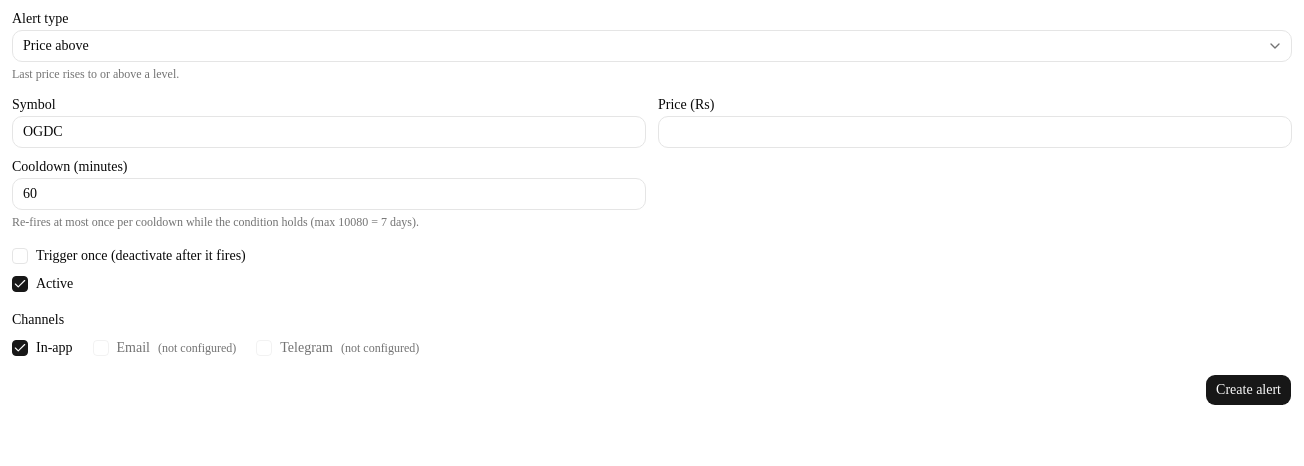
AlertForm › shows per-field errors and creates a typed alert; email/telegram are disabled
The image size is (1304, 466).
Later steps or results of the test are not shown.
Expected: the checkbox named "In-app" is checked, top-left (12, 340), bottom-right (28, 356)
Type "12.3.4" into the field labelled "Price (Rs)".
click(975, 132); type("12.3.4")  # box top-left (658, 116), bottom-right (1292, 148)
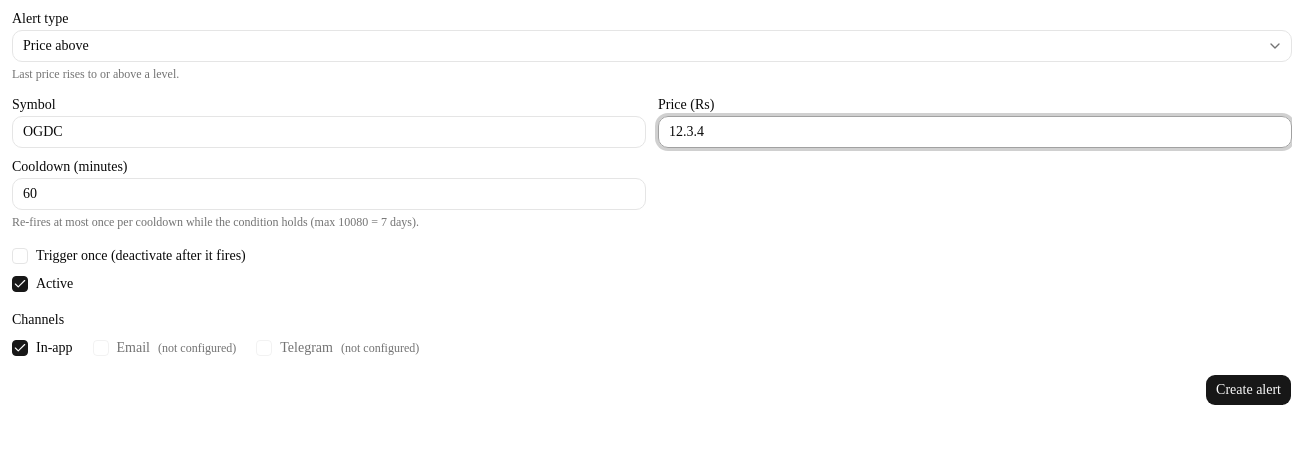
Replace the text in the field labelled "Cooldown (minutes)" with "0" at point(329, 194), box top-left (12, 178), bottom-right (646, 210)
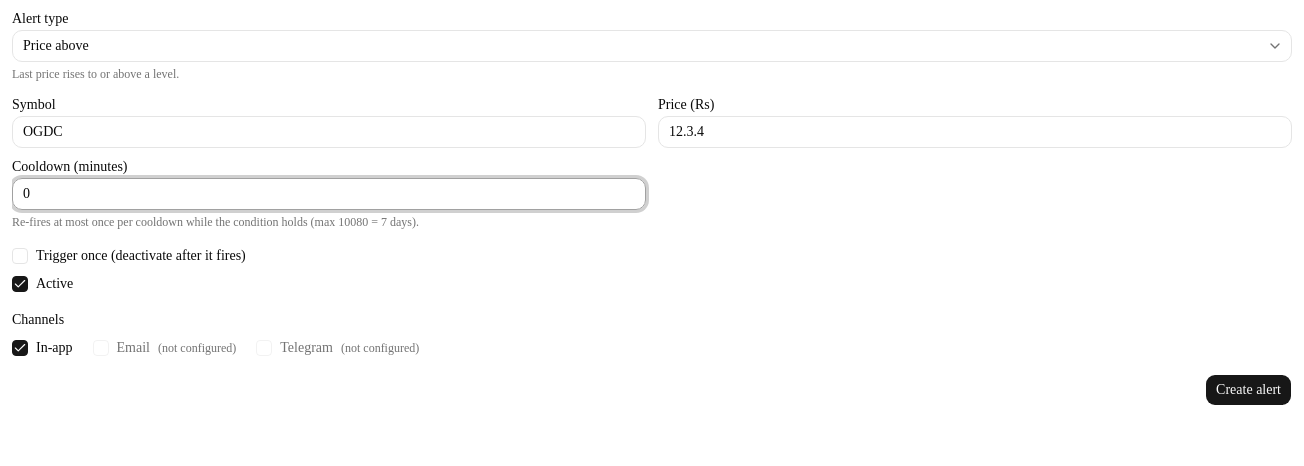
Click the button "Create alert".
click(1249, 390)  # box top-left (1205, 374), bottom-right (1292, 406)
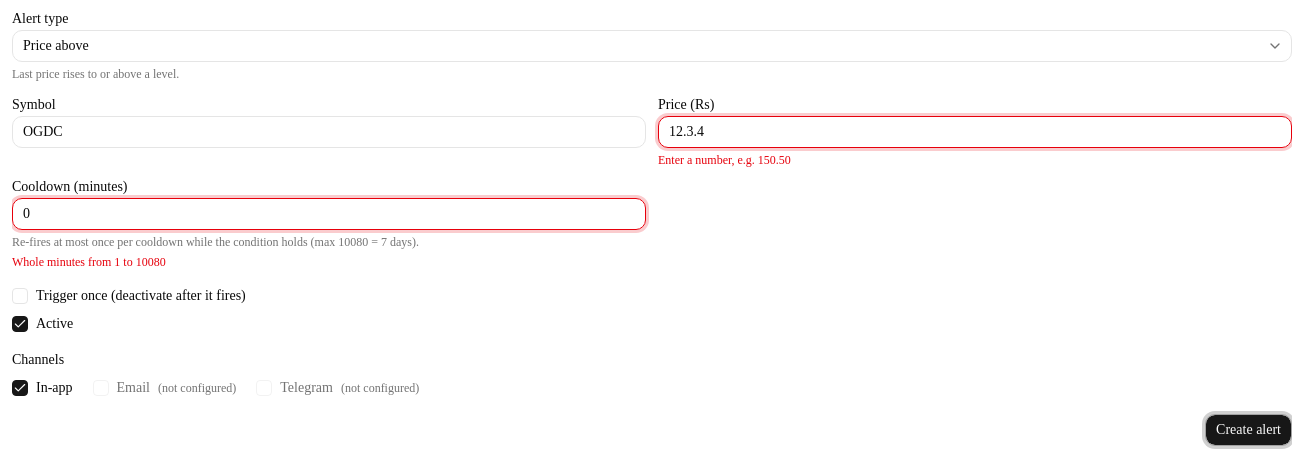
Result: the text "Enter a number, e.g. 150.50" is shown at top-left (658, 153), bottom-right (791, 167)
Result: the text "Whole minutes from 1 to 10080" is shown at top-left (12, 255), bottom-right (166, 269)
